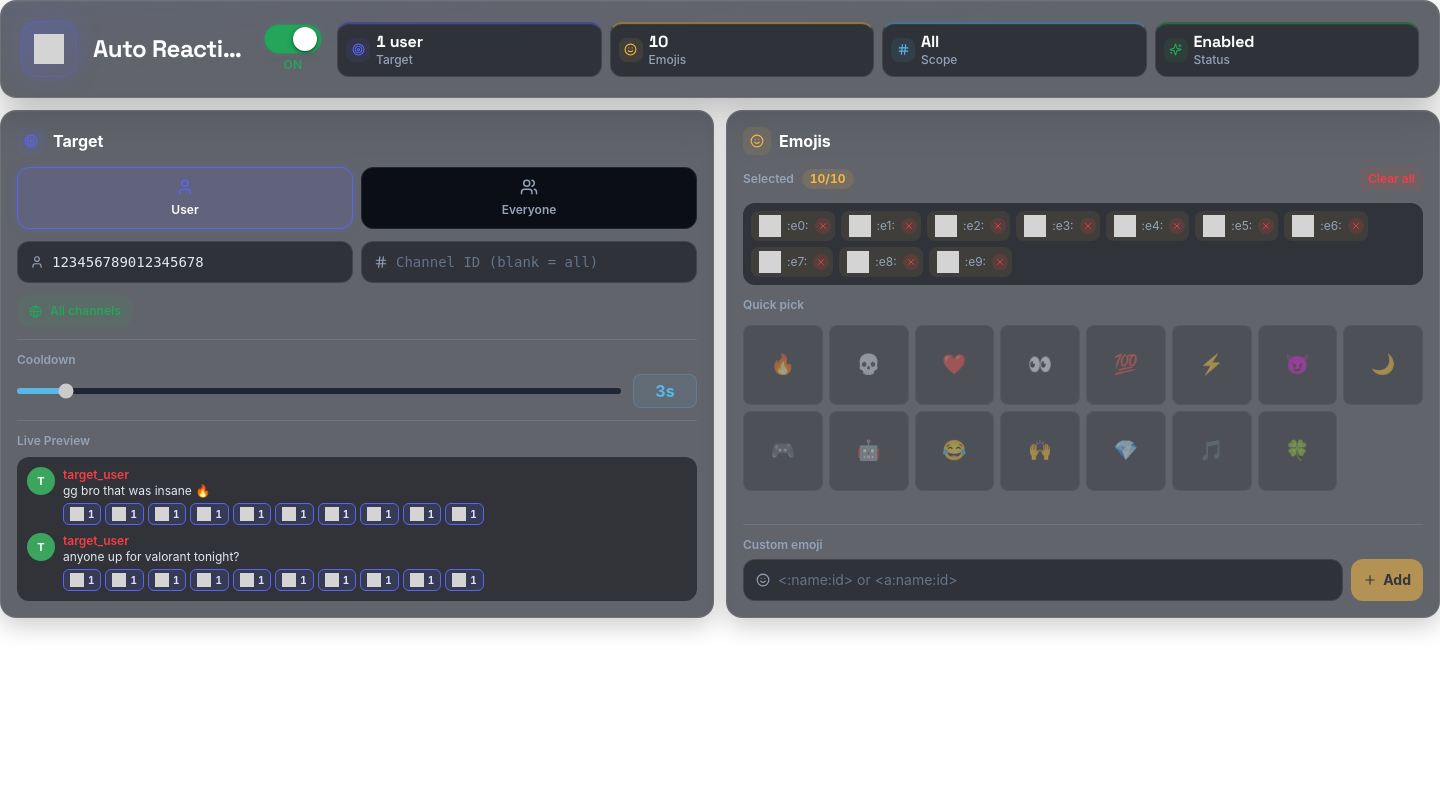
ReactionsFeature emoji palette › keeps 10 selected emojis and rejects an 11th
Expected: the text ":e0:" is shown, top-left (787, 218), bottom-right (808, 234)
In the field with placeholder "<:name:id> or <a:name:id>": coordinates (1054, 580) top-left (778, 560), bottom-right (1330, 600), type "<:extra:999999999999999999>"
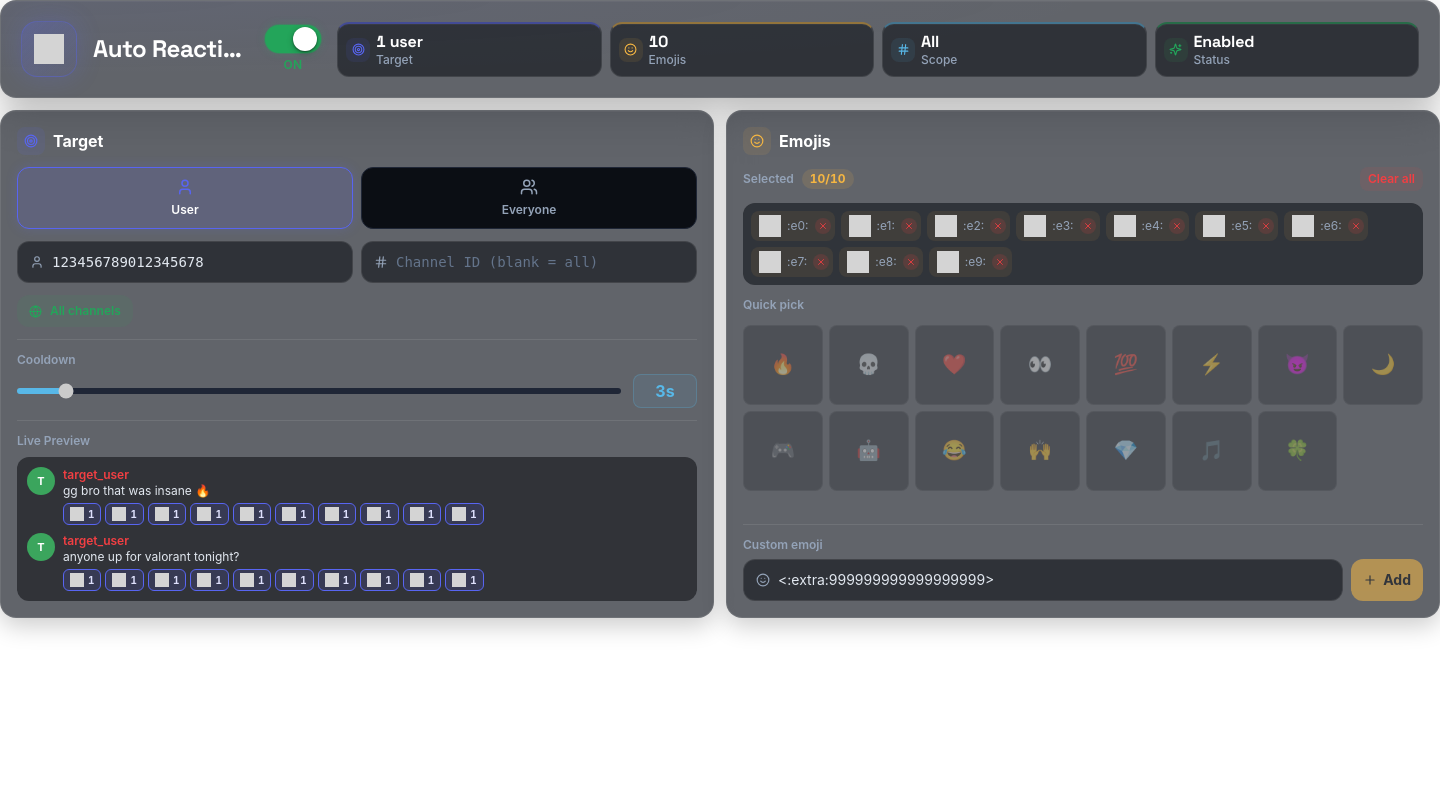
Click the button "Add": coordinates (1387, 580) top-left (1351, 559), bottom-right (1423, 601)
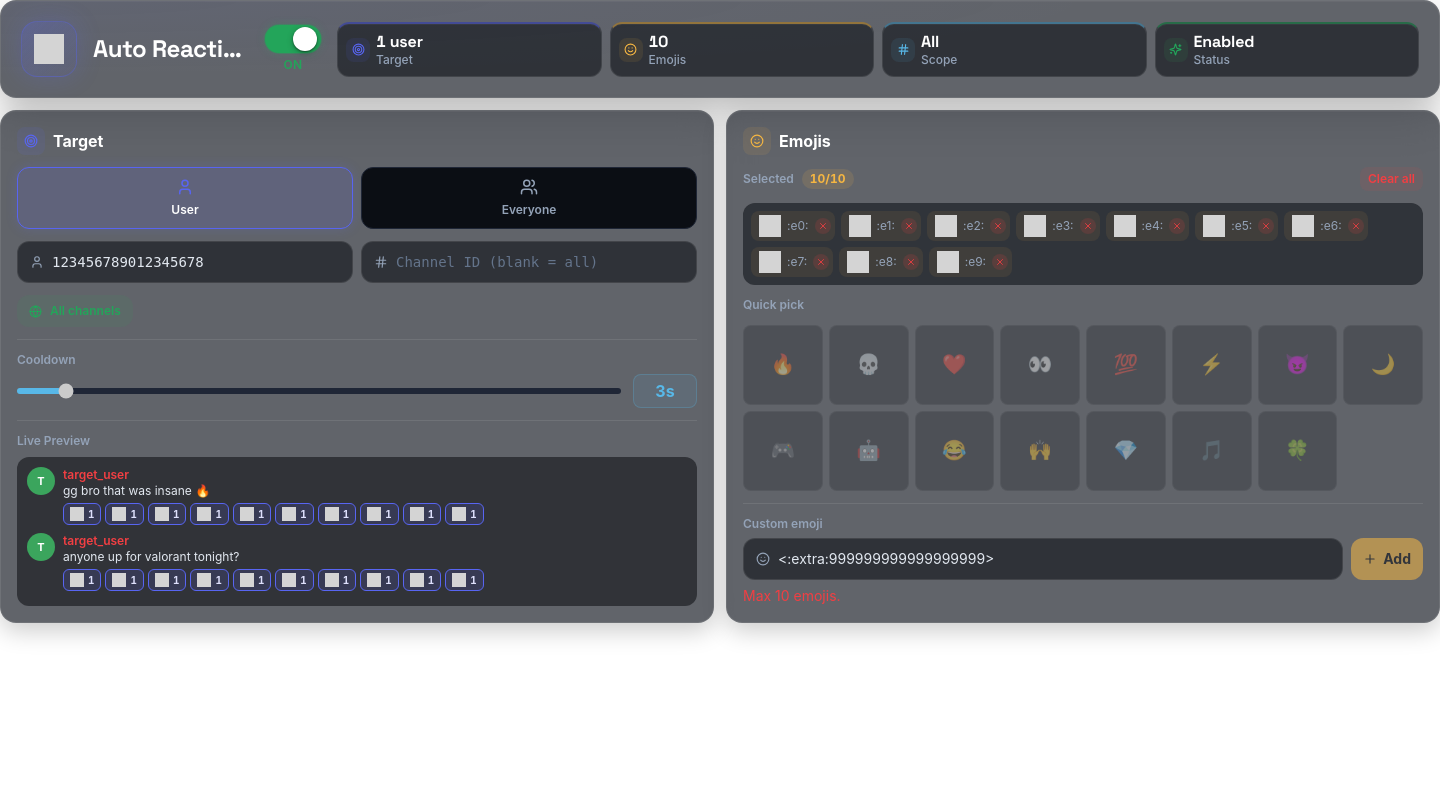
Expected: the text "Max 10 emojis." is shown, top-left (743, 586), bottom-right (841, 604)
